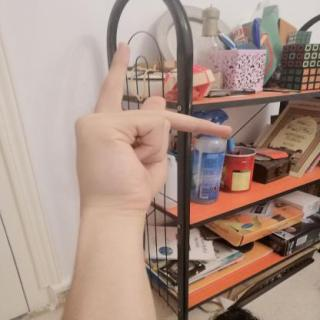DHAA: (59, 32, 244, 222)
